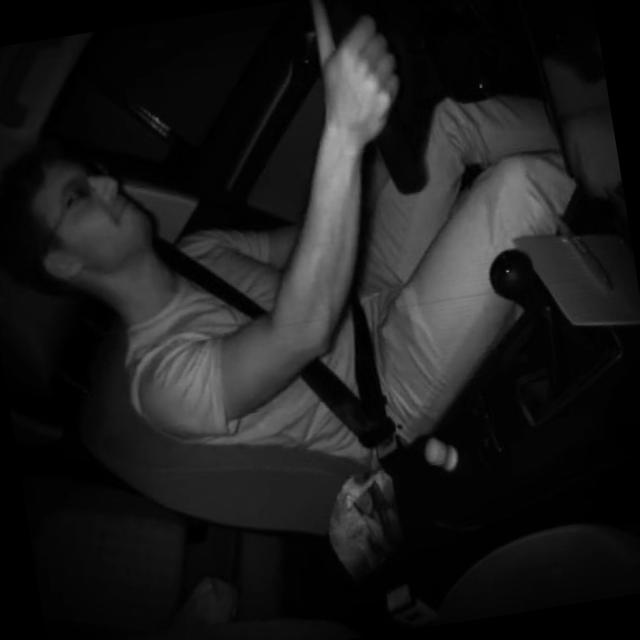pen: (550, 197, 618, 304)
